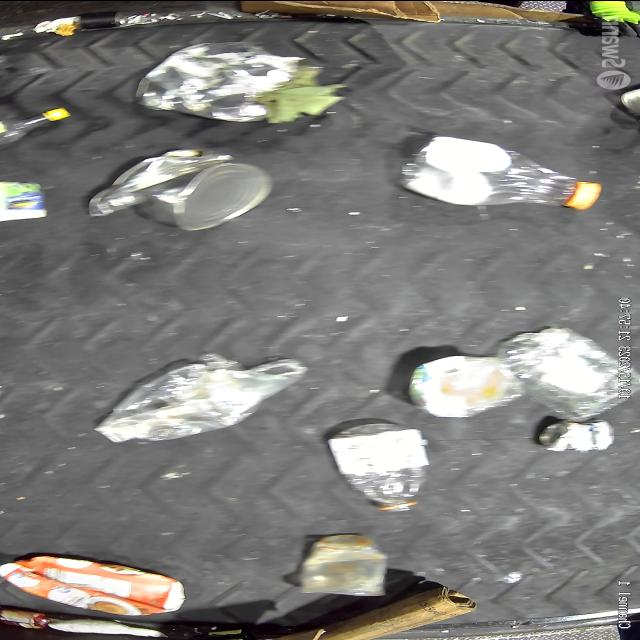can: (86, 146, 277, 232), (534, 418, 616, 450)
non_white_jug: (0, 554, 189, 617)
plastic_bottle: (395, 132, 603, 210), (328, 420, 432, 512)
